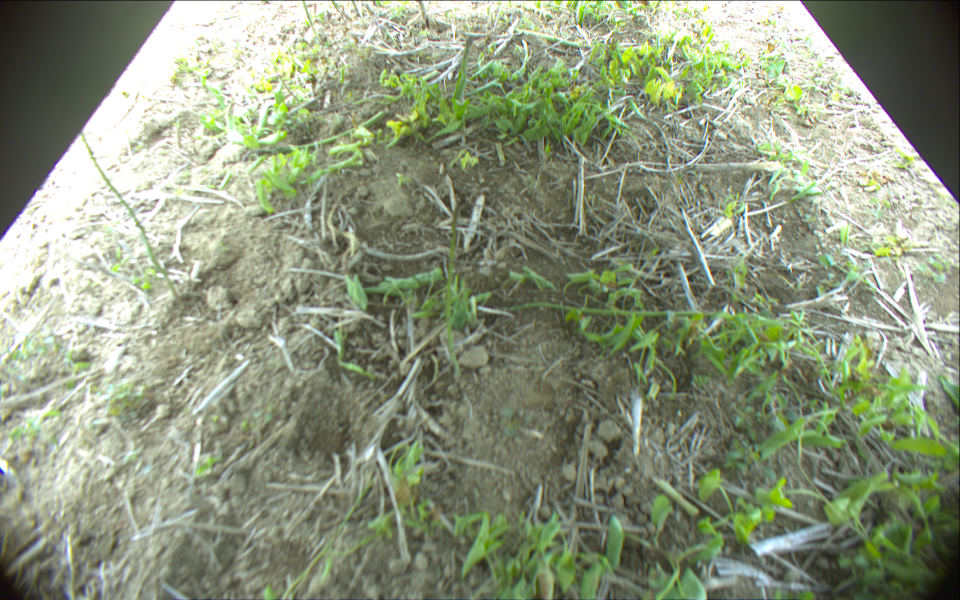aspa: (81, 130, 180, 300), (490, 302, 763, 321), (514, 30, 638, 48), (442, 199, 461, 296), (455, 37, 474, 100), (301, 1, 315, 27), (414, 1, 428, 21), (352, 1, 362, 15)
